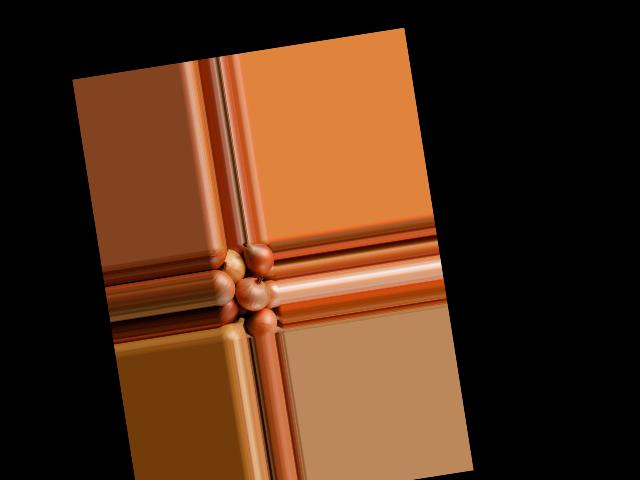onion: (260, 277, 280, 310)
